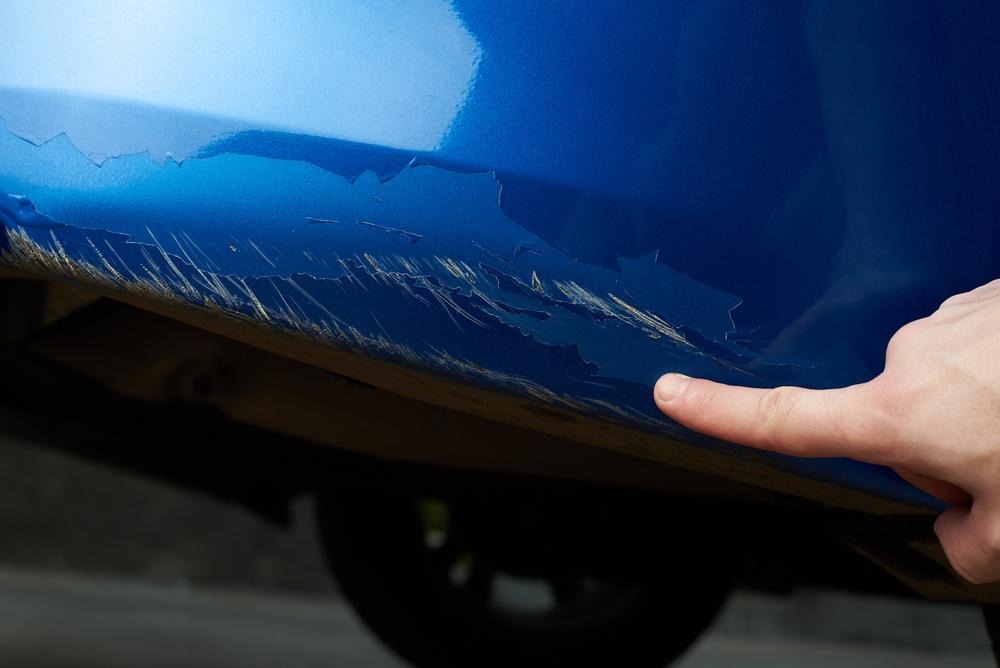scratch: (0, 192, 746, 432)
